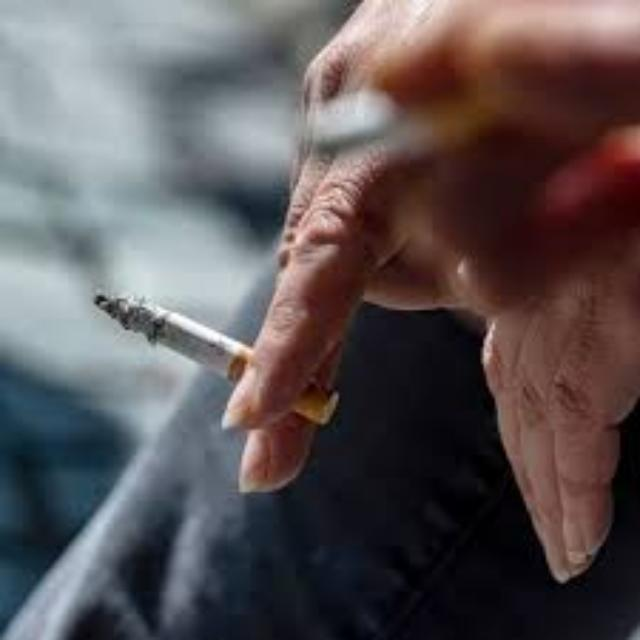Cigarette: (94, 294, 340, 424)
